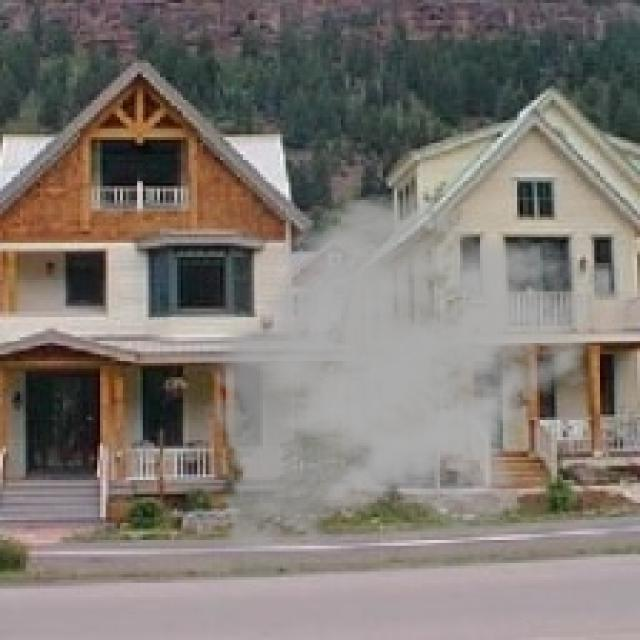smoke: (200, 192, 606, 568)
